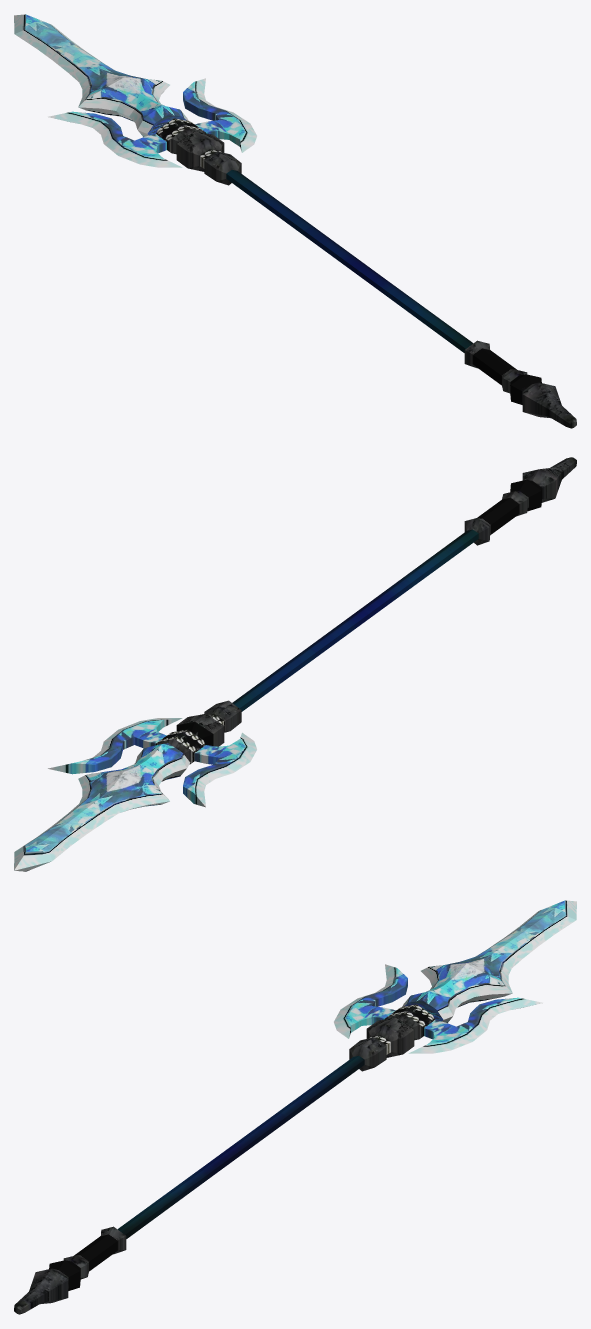
The model's file is weapon_lstest_longinus.glb.
3 views of the same model, one above another, from view 1: azimuth 30°, elevation 25°; view 2: azimuth 150°, elevation 25°; view 3: azimuth 330°, elevation 25° (orthographic).
Bounding box in the file's own units: 0.5918 × 0.1322 × 3.61.
1 material, 1 textured.
